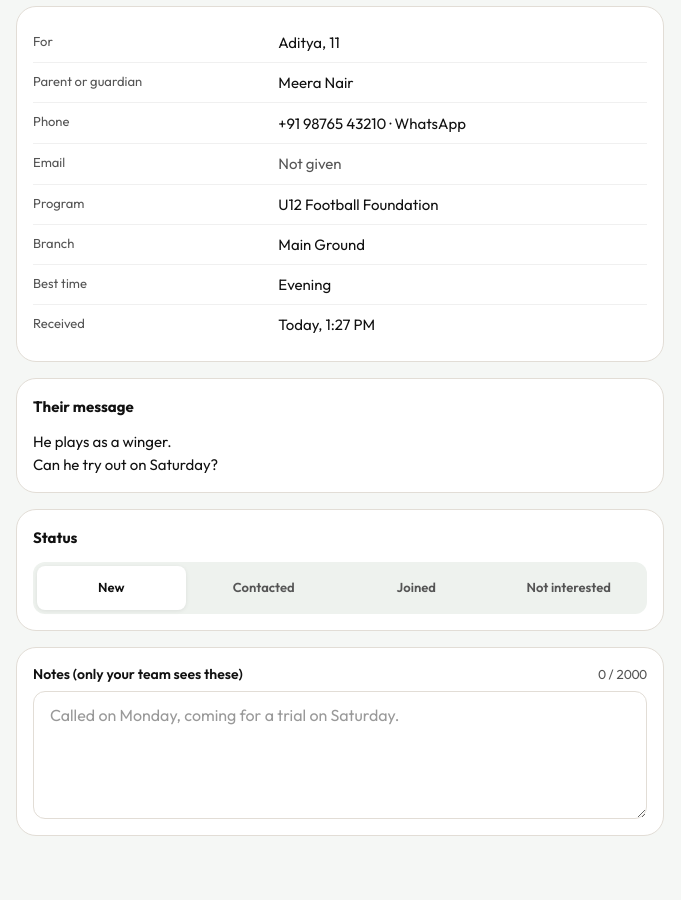
Status and notes › offers Save notes only once they changed, and sends them
(page scrolled)
Expected: the button "Save notes" is not shown
In the text box labelled "Notes (only your team sees these)": point(340, 755) [33,691,647,819], type "Trial on Saturday."
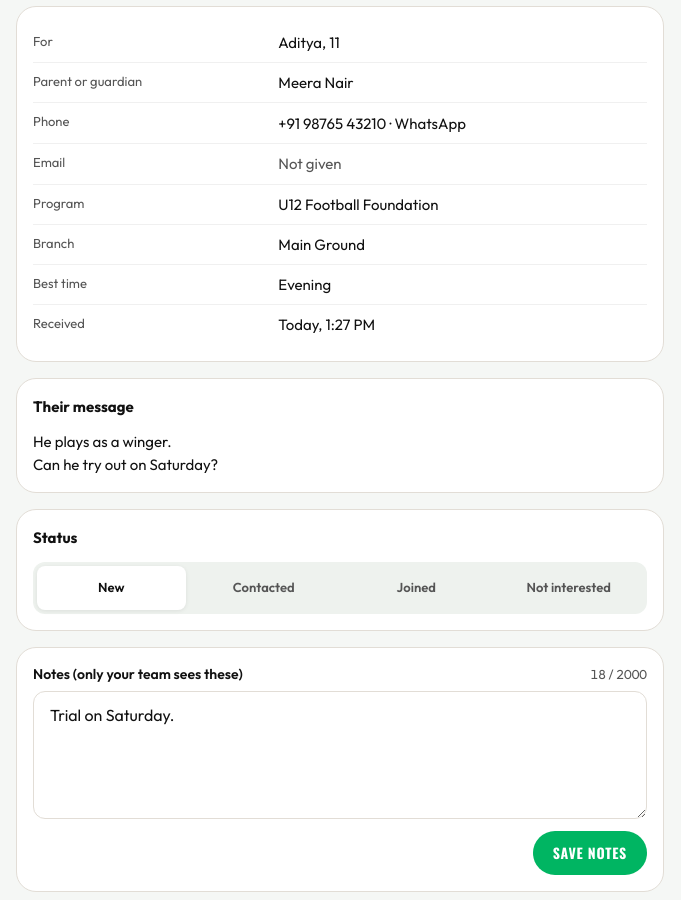
Click the button "Save notes": point(590, 853) [533,831,647,875]
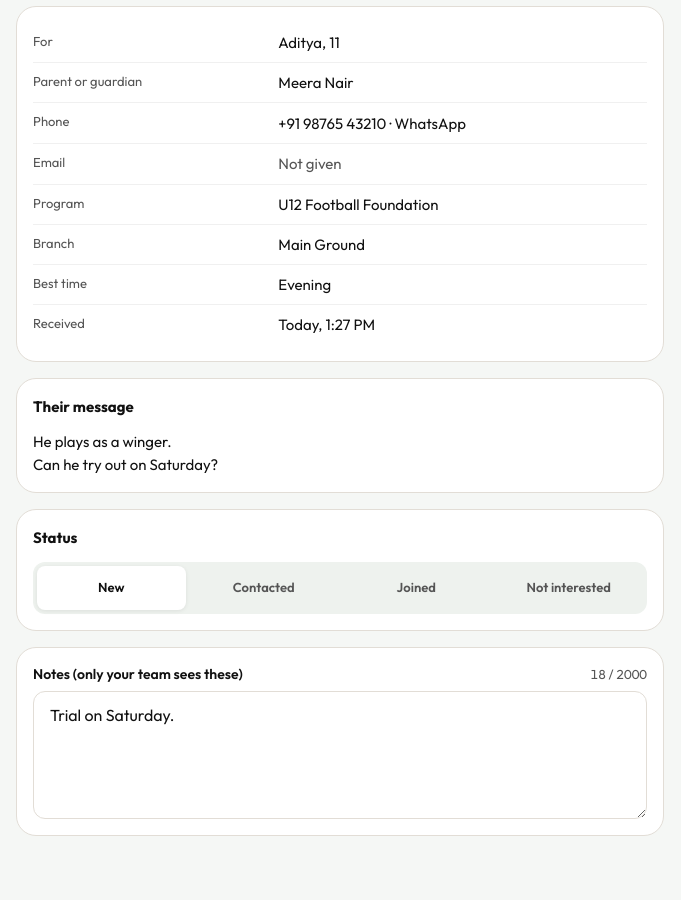
Result: the button "Save notes" is gone
